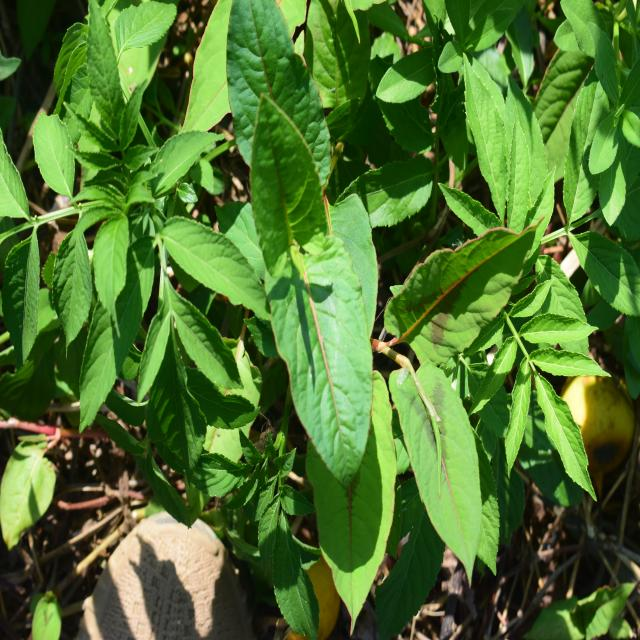Chinese_knotweed: (231, 92, 520, 568)
